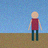person: (28, 12, 42, 41)
